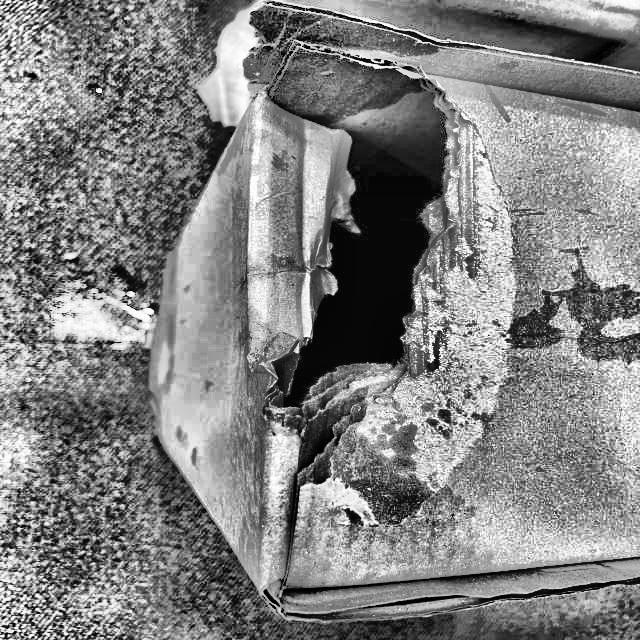box: (141, 0, 639, 623)
hole: (226, 15, 460, 415)
